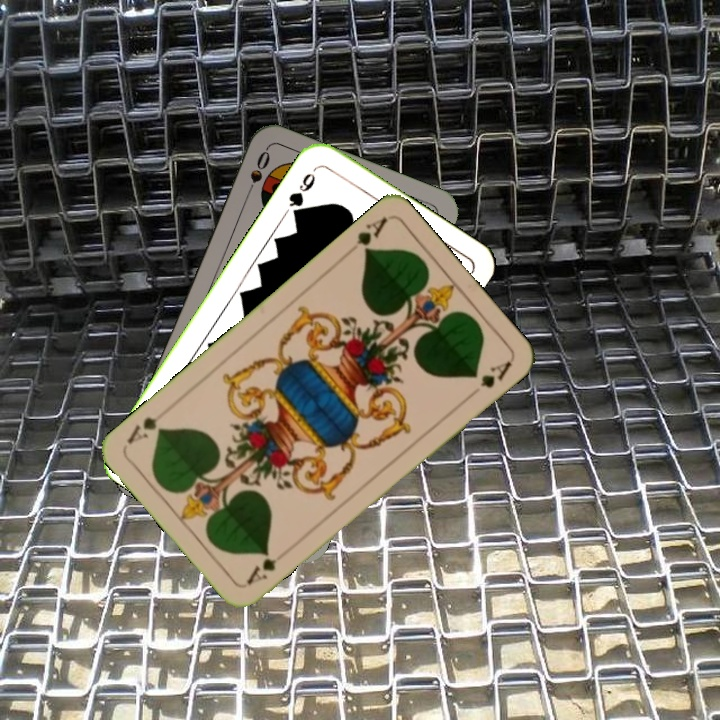G9: (284, 169, 318, 220)
GA: (352, 213, 390, 257), (242, 553, 279, 588)
SO: (240, 146, 273, 203)
